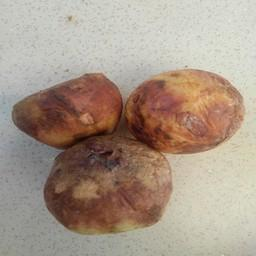Bad_guava: (40, 136, 173, 238), (122, 66, 248, 160), (12, 66, 118, 146)
